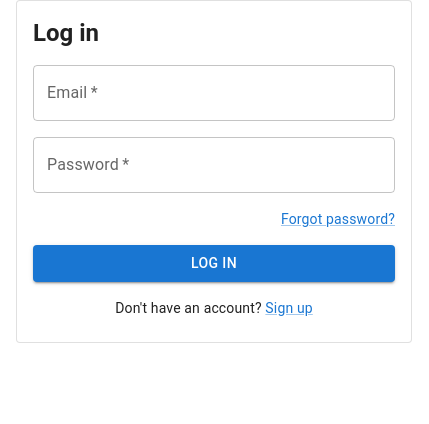
LoginPage › shows the server's own error message on a failed login
This screenshot has width=429, height=424.
Type "a@example.com" into the field labelled "Email *" at (214, 93), box x1=33 y1=65 x2=395 y2=121
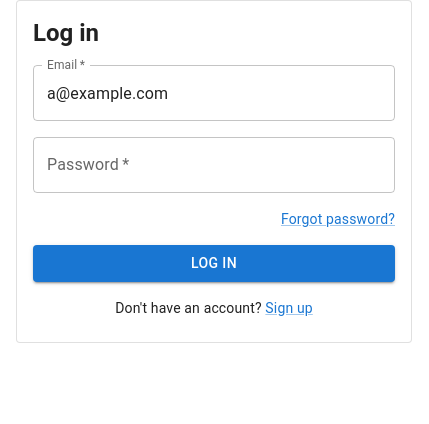
Type "wrong" into the password field labelled "Password *" at (214, 165), box x1=33 y1=137 x2=395 y2=193
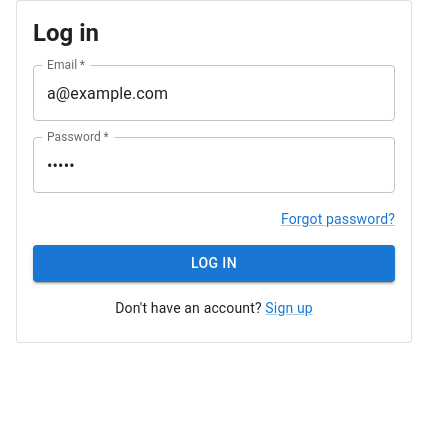
Click the button "Log in" at (214, 263), box x1=33 y1=245 x2=395 y2=282
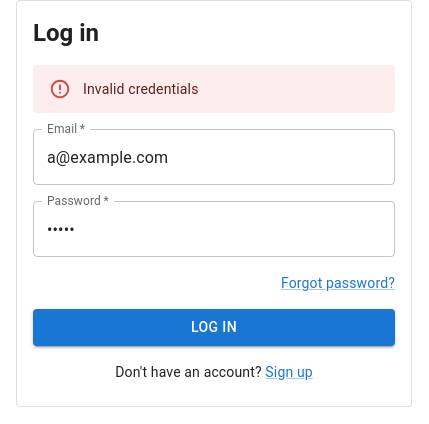
Expected: the text "Invalid credentials" is shown, x1=83 y1=81 x2=198 y2=97
